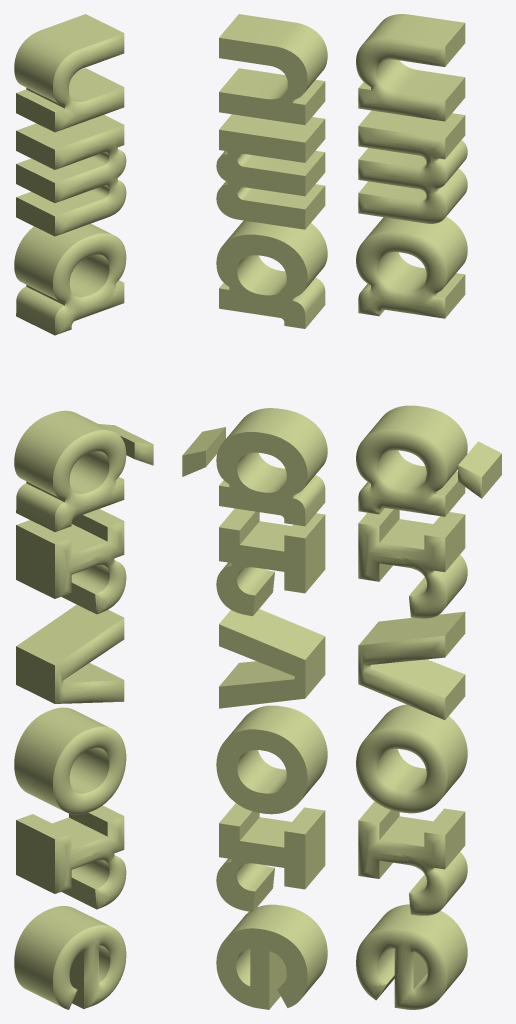
Rendered from teste_28abril.gltf.
3 views of the same model, side by side, from view 1: azimuth 30°, elevation 25°; view 2: azimuth 150°, elevation 25°; view 3: azimuth 330°, elevation 25° (orthographic).
Parts seen in each view (by area): view 1: uma_árvore; view 2: uma_árvore; view 3: uma_árvore.
Boxes of the visible parts, <box> form: uma_árvore: <box>14,14,153,1009</box>; uma_árvore: <box>182,14,327,1009</box>; uma_árvore: <box>356,14,501,1009</box>.
Size of the model in its own units: 0.6836 by 5.14 by 0.4176.
